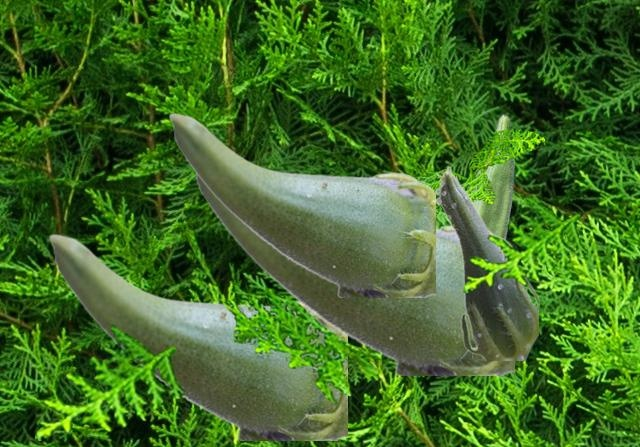okra: (193, 171, 513, 374), (48, 233, 346, 439), (168, 112, 434, 296), (434, 165, 537, 359), (475, 114, 513, 237)
